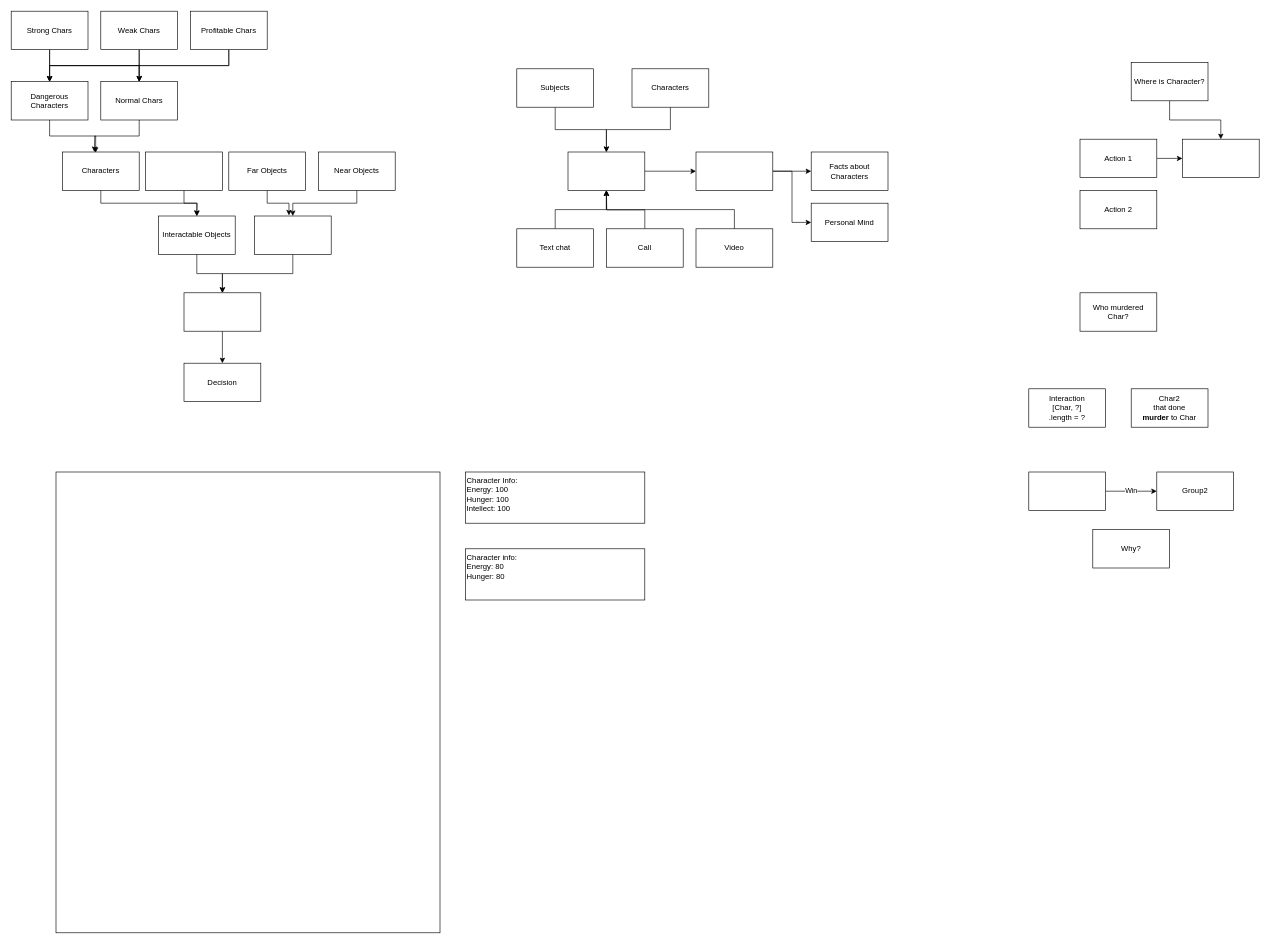
The diagram is 1270 pixels wide and 944 high, and some of its shapes have lost their labels. Here are the shapes that lost their labels. From the top down, the centre of each, then its label:
At point (183, 170): "Items".
At point (606, 170): "Gather Information".
At point (734, 170): "Choose Action".
At point (1220, 158): "Done Criterias".
At point (292, 234): "Visible Objects".
At point (222, 311): "Context".
At point (1067, 490): "Group1".
